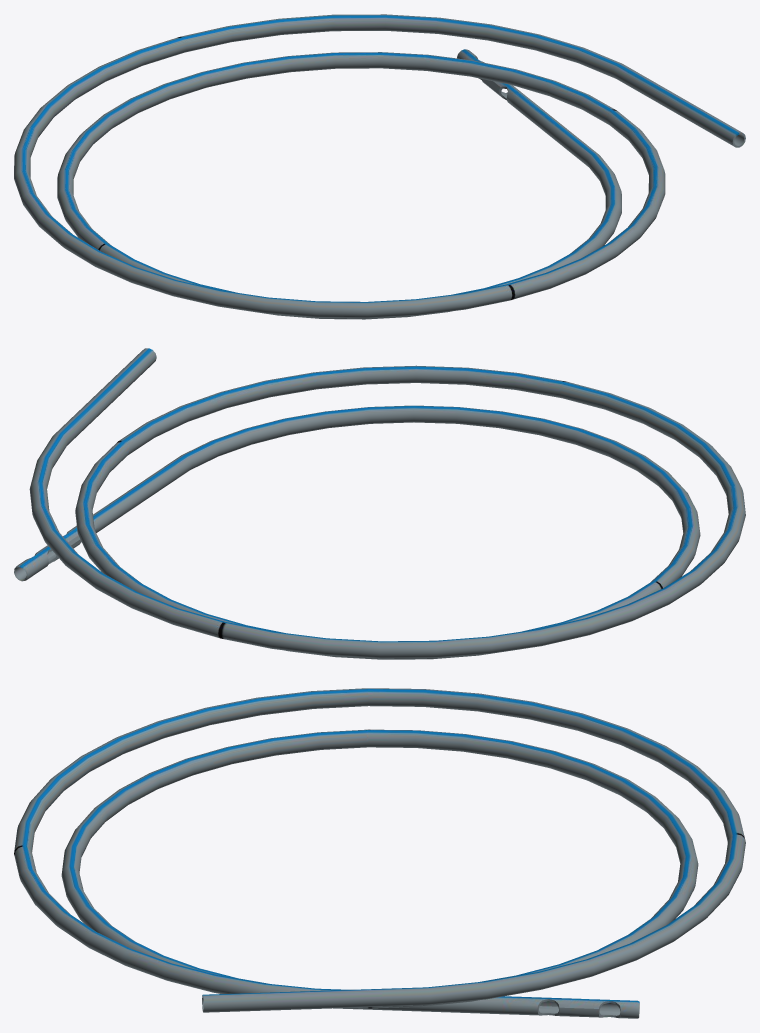
The model's file is sonde_ng.glb.
3 renders of one model, top to bottom at view 1: azimuth 30°, elevation 25°; view 2: azimuth 150°, elevation 25°; view 3: azimuth 270°, elevation 25°, orthographic. The views are drawn at different scales.
Parts seen in each view (by area): view 1: sonde_ng; view 2: sonde_ng; view 3: sonde_ng.
Part boxes in pixels (left/top/right/bottom): sonde_ng: left=14, top=14, right=745, bottom=319; sonde_ng: left=14, top=348, right=745, bottom=659; sonde_ng: left=14, top=688, right=745, bottom=1018.
Bounding box in the file's own units: 0.3 × 0.0272 × 0.2845.
1 material, 1 textured.
